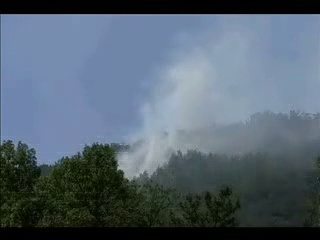smoke: (140, 35, 318, 174), (108, 113, 192, 188)
